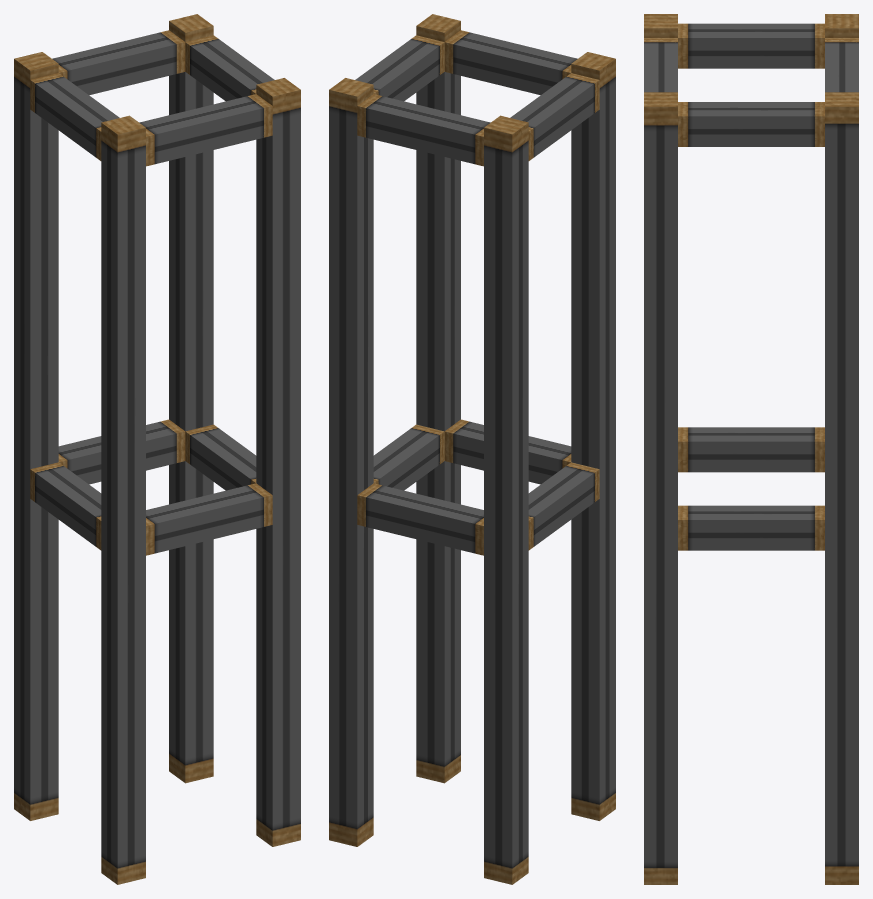
The model's file is Elevator_shaft_pillars.fbx.
3 renders of one model, left to right at view 1: azimuth 30°, elevation 25°; view 2: azimuth 150°, elevation 25°; view 3: azimuth 270°, elevation 25°, orthographic. The views are drawn at different scales.
Visible parts, largest first — view 1: Elevator_shaft_pillars; view 2: Elevator_shaft_pillars; view 3: Elevator_shaft_pillars.
Part boxes in pixels (left/top/right/bottom): Elevator_shaft_pillars: left=14, top=14, right=300, bottom=884; Elevator_shaft_pillars: left=329, top=14, right=615, bottom=884; Elevator_shaft_pillars: left=644, top=14, right=858, bottom=884.
Bounding box in the file's own units: 1.9 × 7.45 × 1.86.
